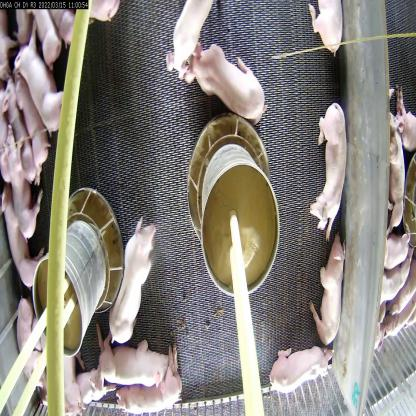Pig: (110, 216, 154, 343), (186, 51, 259, 127), (312, 108, 356, 229), (12, 41, 67, 130), (100, 324, 166, 392), (3, 202, 46, 302), (1, 122, 36, 238), (120, 357, 184, 415), (319, 242, 347, 367), (270, 342, 326, 401), (171, 4, 213, 63)
